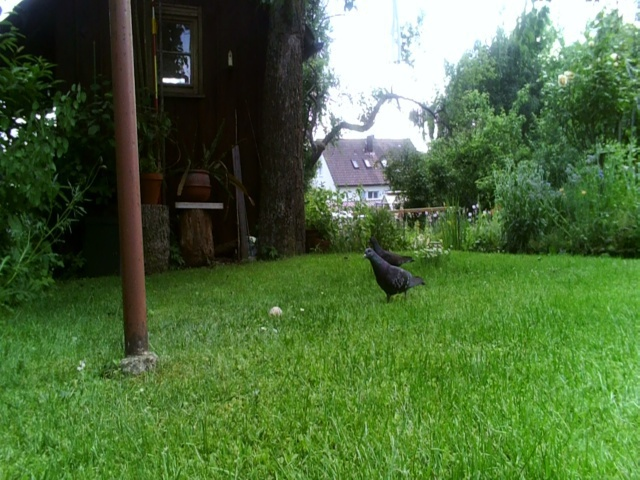Pigeon: (360, 249, 427, 305), (367, 233, 414, 267)
